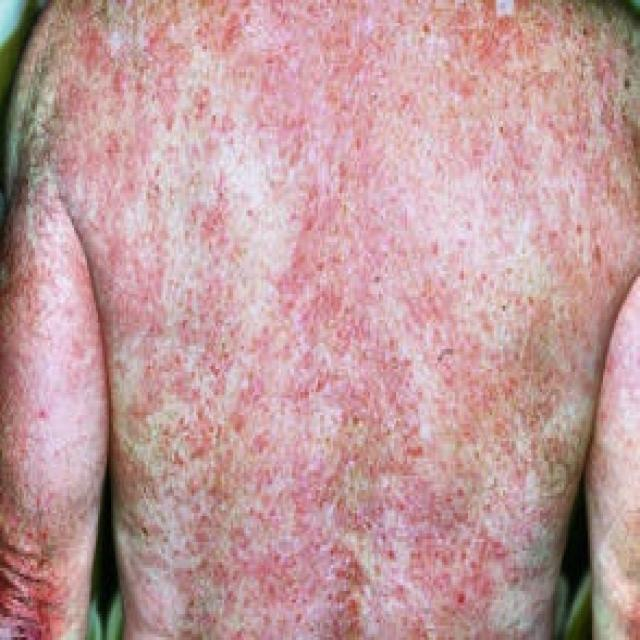Atopic-Dermatitis: (29, 27, 619, 604)
